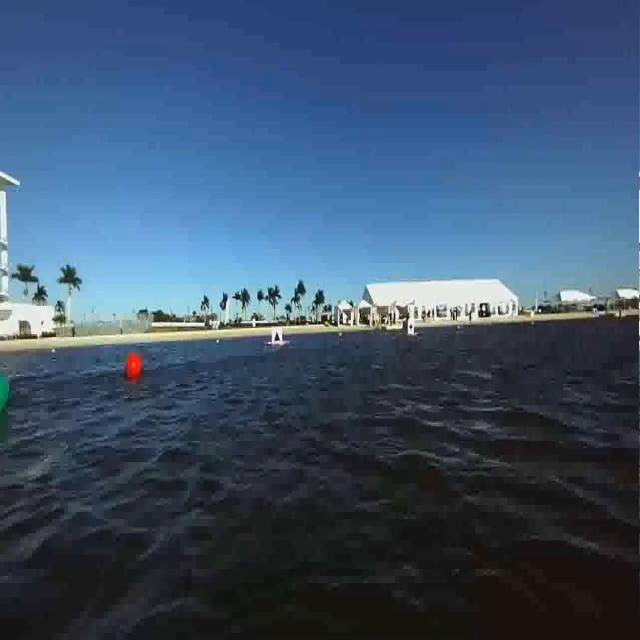green-buoy: (0, 372, 11, 416)
red-buoy: (126, 354, 143, 381)
